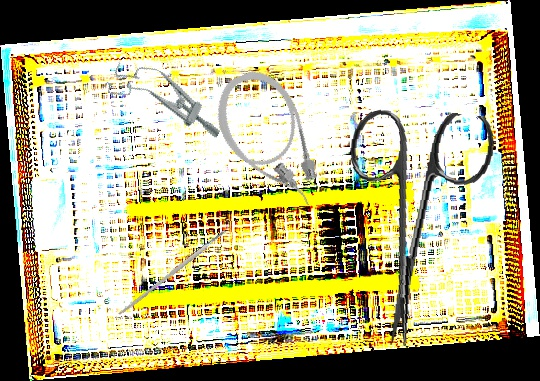Cannula: (204, 61, 333, 225)
Iris Scissors: (330, 102, 497, 354)
Scalpel Handle: (117, 229, 228, 317)
Speculum: (101, 51, 233, 146)
